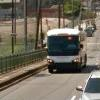Bus: (41, 24, 88, 73)
